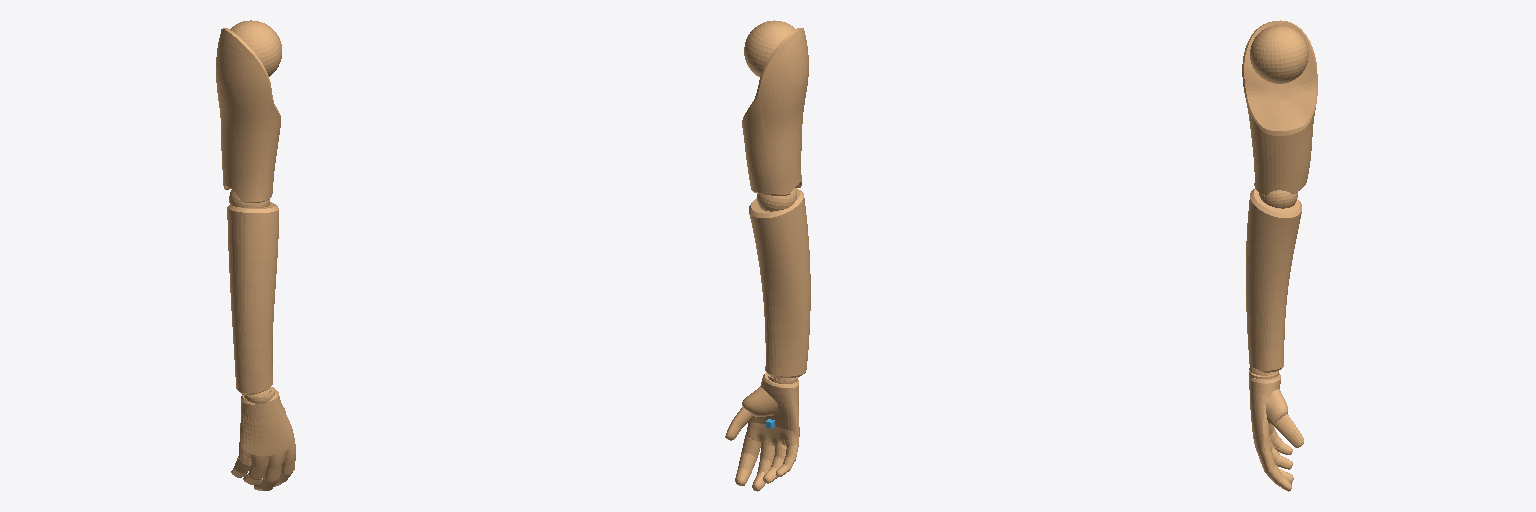
The robot description file, URDF, robot "right_arm":
<?xml version="1.0" ?>
<robot name="right_arm">

  <material name="skin">
    <color rgba="0.9 0.72 0.53 1.000"/>
  </material>

  <link name="base_link">
    <inertial>
      <origin xyz="0.0 0.0 0.0" rpy="0 0 0"/>
      <mass value="0.0"/>
      <inertia ixx="0.0" iyy="0.0" izz="0.0" ixy="0.0" iyz="0.0" ixz="0.0"/>
    </inertial>
  </link>

  <joint name="base_fixed" type="fixed">
    <origin rpy="0 0 0.0" xyz="0 0 0.0"/>
    <parent link="base_link"/>
    <child link="base_link_0"/>
  </joint>

  <link name="base_link_0">
    <inertial>
      <origin xyz="0.0 0.0 0.0" rpy="0 0 0"/>
      <mass value="0.0"/>
      <inertia ixx="0.0" iyy="0.0" izz="0.0" ixy="0.0" iyz="0.0" ixz="0.0"/>
    </inertial>
  </link>

  <link name="base_link_1">
    <inertial>
      <origin xyz="0.0 0.0 0.0" rpy="0 0 0"/>
      <mass value="0.0"/>
      <inertia ixx="0.0" iyy="0.0" izz="0.0" ixy="0.0" iyz="0.0" ixz="0.0"/>
    </inertial>
  </link>

  <link name="base_link_2">
    <inertial>
      <origin xyz="0.0 0.0 0.0" rpy="0 0 0"/>
      <mass value="0.0"/>
      <inertia ixx="0.0" iyy="0.0" izz="0.0" ixy="0.0" iyz="0.0" ixz="0.0"/>
    </inertial>
  </link>

  <link name="hand_x">
    <inertial>
      <origin xyz="0.0 0.0 0.0" rpy="0 0 0"/>
      <mass value="0.0"/>
      <inertia ixx="0.0" iyy="0.0" izz="0.0" ixy="0.0" iyz="0.0" ixz="0.0"/>
    </inertial>
  </link>

  <link name="hand_y">
    <inertial>
      <origin xyz="0.0 0.0 0.0" rpy="0 0 0"/>
      <mass value="0.0"/>
      <inertia ixx="0.0" iyy="0.0" izz="0.0" ixy="0.0" iyz="0.0" ixz="0.0"/>
    </inertial>
  </link>

  <link name="upper_arm">
    <inertial>
      <origin xyz="0.00277 -0.00352 -0.098" rpy="0 0 0"/>
      <mass value="1.0"/>
      <inertia ixx="0.00691" iyy="0.00674" izz="0.00097" ixy="-6.65745e-06" iyz="-7.0718e-05" ixz="0.00015"/>
    </inertial>
    <visual>
      <origin xyz="0 0 0" rpy="0 0 0"/>
      <geometry>
        <mesh filename="meshes/right_upper_arm.stl" scale="1.0 1.0 1.0"/>
      </geometry>
      <material name="skin"/>
    </visual>
    <collision>
      <origin xyz="0 0 0" rpy="0 0 0"/>
      <geometry>
        <mesh filename="meshes/right_upper_arm.stl" scale="1.0 1.0 1.0"/>
      </geometry>
    </collision>
  </link>

  <link name="lower_arm">
    <inertial>
      <origin xyz="0.01457 9.28389e-05 -0.19143" rpy="0 0 0"/>
      <mass value="1.0"/>
      <inertia ixx="0.01712" iyy="0.01699" izz="0.00072" ixy="-5.34657e-05" iyz="-0.00071" ixz="0.00031"/>
    </inertial>
    <visual>
      <origin xyz="0.0 0.0 0.0" rpy="0 0 0"/>
      <geometry>
        <mesh filename="meshes/right_lower_arm_without_hand.stl" scale="1.0 1.0 1.0"/>
      </geometry>
      <material name="skin"/>
    </visual>
    <collision>
      <origin xyz="0.0 0.0 0.0" rpy="0 0 0"/>
      <geometry>
        <mesh filename="meshes/right_lower_arm_without_hand.stl" scale="1.0 1.0 1.0"/>
      </geometry>
    </collision>
  </link>

  <link name="hand">
    <inertial>
      <origin xyz="0.16051 -0.012319 0.075256" rpy="0 0 0"/>
      <mass value="1.0"/>
      <inertia ixx="0.01712" iyy="0.01699" izz="0.00072" ixy="-5.34657e-05" iyz="-0.00071" ixz="0.00031"/>
    </inertial>
    <visual>
      <origin xyz="0.0 0.0 0.0" rpy="0 0 0"/>
      <geometry>
        <mesh filename="meshes/right_hand.stl" scale="1.0 1.0 1.0"/>
      </geometry>
      <material name="skin"/>
    </visual>
    <collision>
      <origin xyz="0.0 0.0 0.0" rpy="0 0 0"/>
      <geometry>
        <mesh filename="meshes/right_hand.stl" scale="1.0 1.0 1.0"/>
      </geometry>
    </collision>
  </link>

  <joint name="base_x" type="continuous">
    <origin xyz="0.0 0.0 0.0" rpy="0 0 0"/>
    <parent link="base_link_0"/>
    <child link="base_link_1"/>
    <axis xyz="1.0 0.0 0.0"/>
    <limit effort="100" lower="-1.57" upper="1.57" velocity="5.0"/>
  </joint>

  <joint name="base_y" type="continuous">
    <origin xyz="0.0 0.0 0.0" rpy="0 0 0"/>
    <parent link="base_link_1"/>
    <child link="base_link_2"/>
    <axis xyz="0.0 1.0 0.0"/>
    <limit effort="100" lower="-0.25" upper="1.57" velocity="5.0"/>
  </joint>

  <joint name="base_z" type="continuous">
    <origin xyz="0.0 0.0 0.0" rpy="0 0 0"/>
    <parent link="base_link_2"/>
    <child link="upper_arm"/>
    <axis xyz="0.0 0.0 1.0"/>
    <limit effort="100" lower="-1.57" upper="1.57" velocity="5.0"/>
  </joint>

  <joint name="upper_to_lower" type="continuous">
    <origin xyz="0.0 0.0 -0.24102" rpy="0 0 -1.57"/>
    <parent link="upper_arm"/>
    <child link="lower_arm"/>
    <axis xyz="0.0 1.0 0.0"/>
    <limit effort="100" lower="-2.0944" upper="0.25" velocity="5.0"/>
  </joint>


  <joint name="lower_to_hand_x" type="continuous">
    <origin xyz="0.0 0.0 -0.296366" rpy="0 0 0"/>
    <parent link="lower_arm"/>
    <child link="hand_x"/>
    <axis xyz="1.0 0.0 0.0"/>
    <limit effort="100" lower="-2.0944" upper="0.25" velocity="5.0"/>
  </joint>


  <joint name="hand_x_to_hand_y" type="continuous">
    <origin xyz="0.0 0.0 0.0" rpy="0 0 0"/>
    <parent link="hand_x"/>
    <child link="hand_y"/>
    <axis xyz="0.0 1.0 0.0"/>
    <limit effort="100" lower="-2.0944" upper="0.25" velocity="5.0"/>
  </joint>

  <joint name="hand_y_to_hand" type="continuous">
    <origin xyz="0.0 0.005 0.0" rpy="0 0 0"/>
    <parent link="hand_y"/>
    <child link="hand"/>
    <axis xyz="0.0 0.0 1.0"/>
    <limit effort="100" lower="-3.14" upper="1.0" velocity="5.0"/>
  </joint>

  <joint name="grasp_fixed_joint" type="fixed">
    <parent link="hand"/>
    <child link="ee_link"/>
    <origin rpy="3.1415926535 0.0 3.1415926535" xyz="-0.01 0.0 -0.07"/>
  </joint>

  <link name="ee_link">
    <inertial>
      <origin xyz="0.0 0.0 0.0" rpy="0 0 0"/>
      <mass value="0.0"/>
      <inertia ixx="0.0" iyy="0.0" izz="0.0" ixy="0.0" iyz="0.0" ixz="0.0"/>
    </inertial>
    <visual>
      <geometry>
        <box size="0.01 0.01 0.01"/>
      </geometry>
      <origin rpy="0 0 0" xyz="0.0 0 0"/>
    </visual>
  </link>

</robot>

--- What the picture shows (computed from the rendered views, not written in the file) ---
Views: 3 orthographic renders of the robot side by side, from view 1: azimuth 30°, elevation 25°; view 2: azimuth 150°, elevation 25°; view 3: azimuth 270°, elevation 25°.
Model right_arm with 10 links and 9 joints (7 continuous, 2 fixed), rooted at base_link, posed every joint at zero.
Visible links, largest first — view 1: upper_arm, lower_arm, hand; view 2: upper_arm, lower_arm, hand; view 3: upper_arm, lower_arm, hand.
Link boxes in pixels (box(x1,y1,x2,y2)): upper_arm: box(216, 20, 281, 207); lower_arm: box(227, 202, 278, 397); hand: box(231, 387, 295, 490); upper_arm: box(742, 20, 808, 211); lower_arm: box(749, 188, 810, 380); hand: box(725, 372, 799, 491); upper_arm: box(1242, 20, 1317, 208); lower_arm: box(1246, 189, 1301, 375); hand: box(1249, 370, 1303, 491).
Bounding box of the posed robot: 0.1159 × 0.1162 × 0.7635 m (x, y, z).
3 mesh visuals loaded from 3 distinct referenced files (3 binary STL).